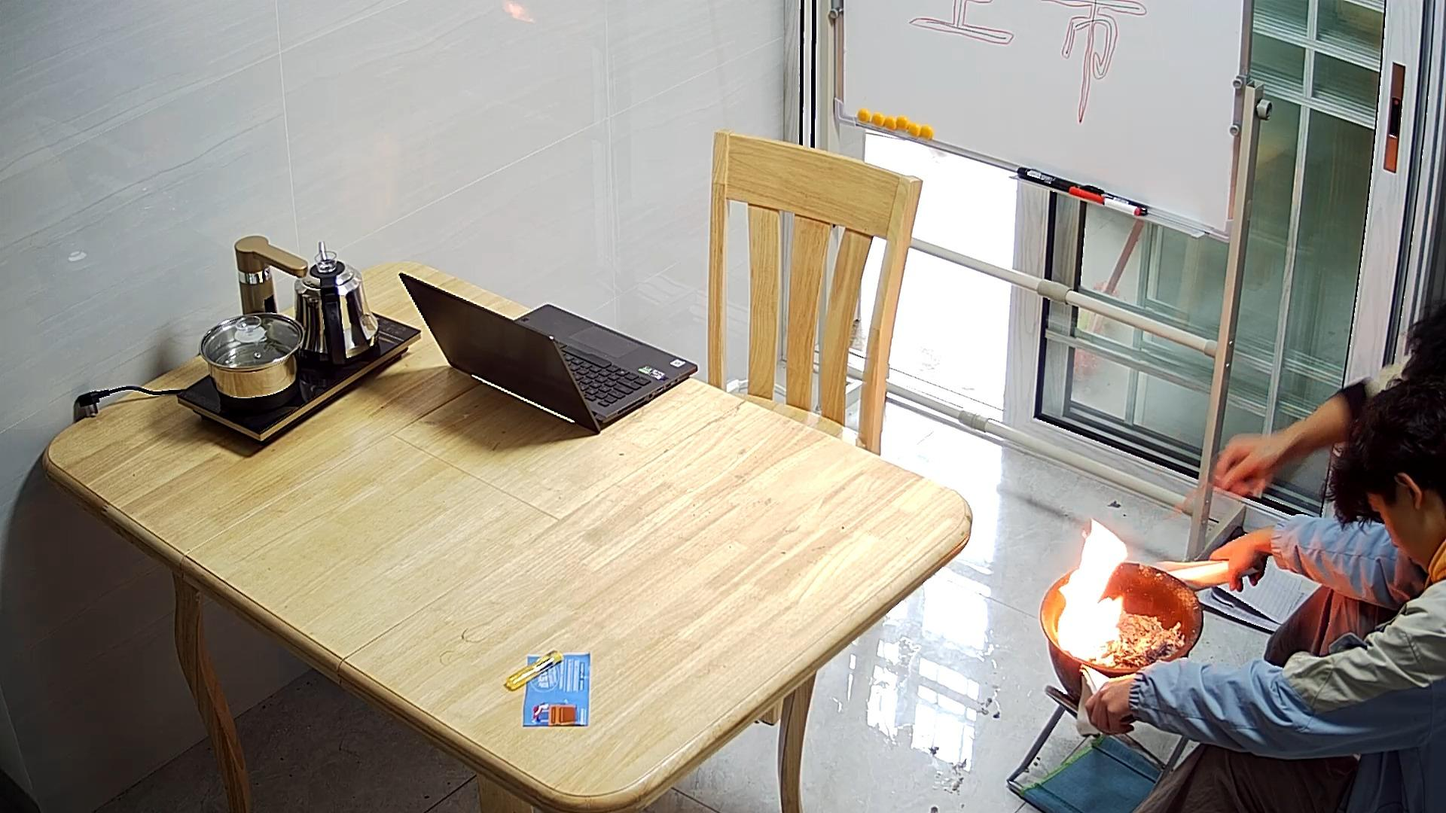fire: (1059, 522, 1127, 659), (1081, 600, 1121, 620)
